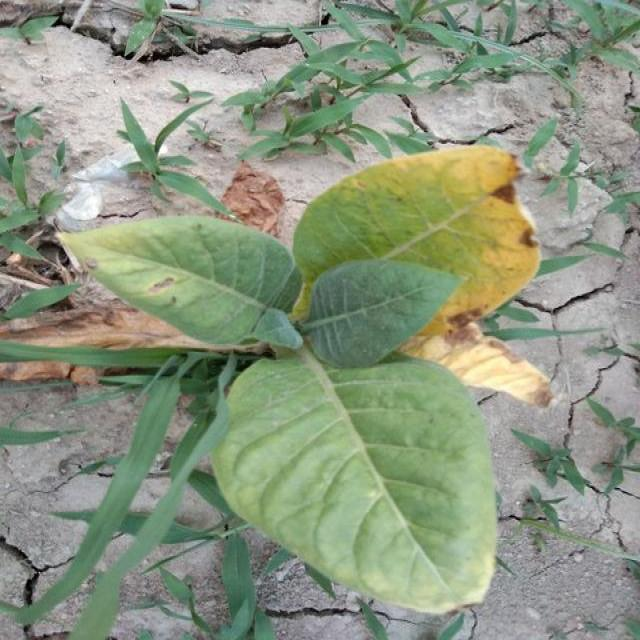crop: (62, 150, 543, 618)
